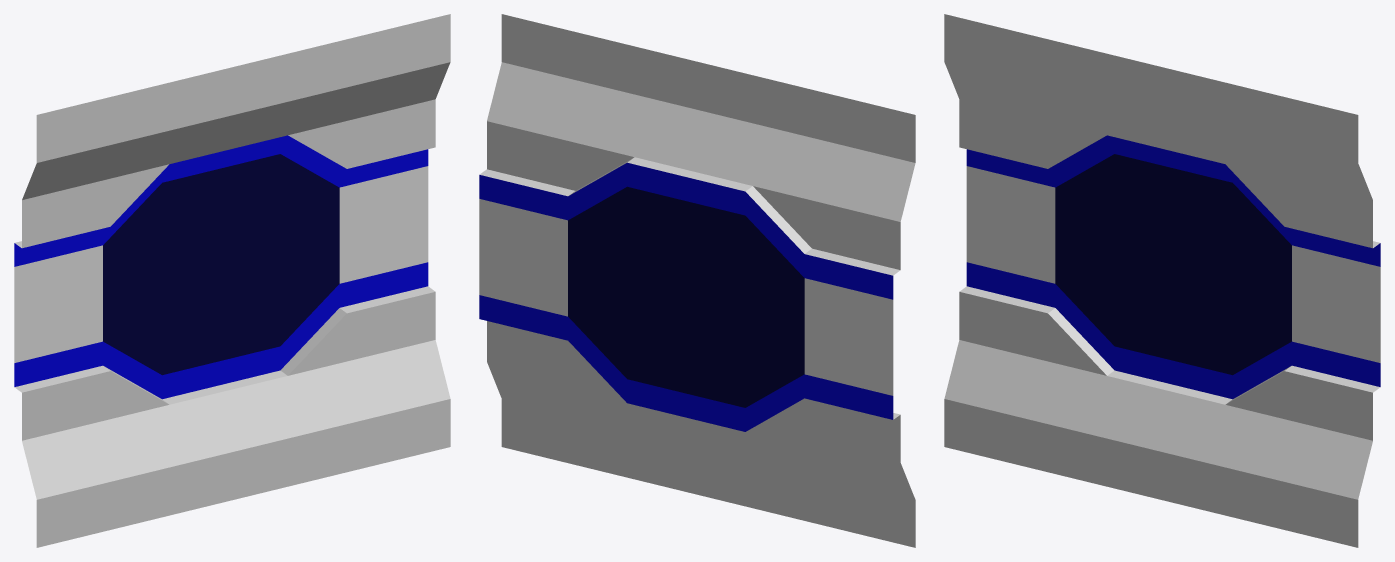
Rendered from Wall002Window.fbx.
The picture shows the model from 3 angles, left to right: view 1: azimuth 30°, elevation 25°; view 2: azimuth 150°, elevation 25°; view 3: azimuth 330°, elevation 25°; orthographic projection.
Visible parts, largest first — view 1: Wall002Window; view 2: Wall002Window; view 3: Wall002Window.
Part boxes in pixels (left/top/right/bottom): Wall002Window: left=14, top=14, right=450, bottom=547; Wall002Window: left=479, top=14, right=915, bottom=547; Wall002Window: left=944, top=14, right=1380, bottom=547.
Size of the model in its own units: 2 by 2 by 0.1875.
